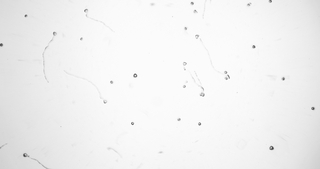germinated: (193, 32, 206, 47), (21, 151, 36, 161), (97, 92, 108, 104), (181, 60, 190, 73), (48, 30, 58, 41), (82, 7, 91, 17)
nongerminated: (268, 144, 275, 152), (131, 72, 138, 79), (129, 119, 136, 126), (108, 78, 115, 85), (251, 42, 257, 50), (281, 75, 287, 82), (309, 104, 315, 111), (176, 115, 182, 122), (79, 33, 85, 40), (23, 12, 30, 18), (197, 120, 203, 126), (190, 0, 195, 6), (183, 24, 188, 30), (223, 69, 227, 75)
